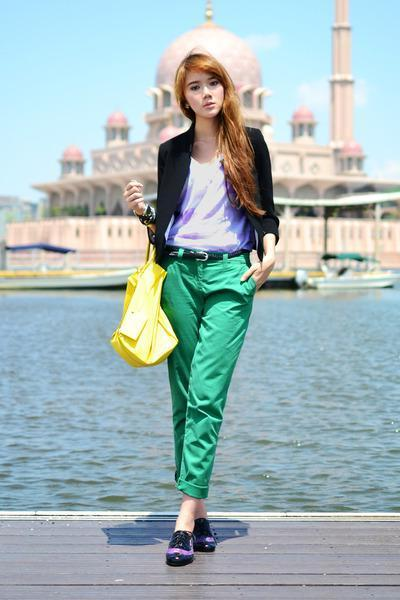jacket: (144, 123, 279, 260)
short sleeve shirt: (168, 145, 251, 252)
trousers: (164, 247, 258, 499)
